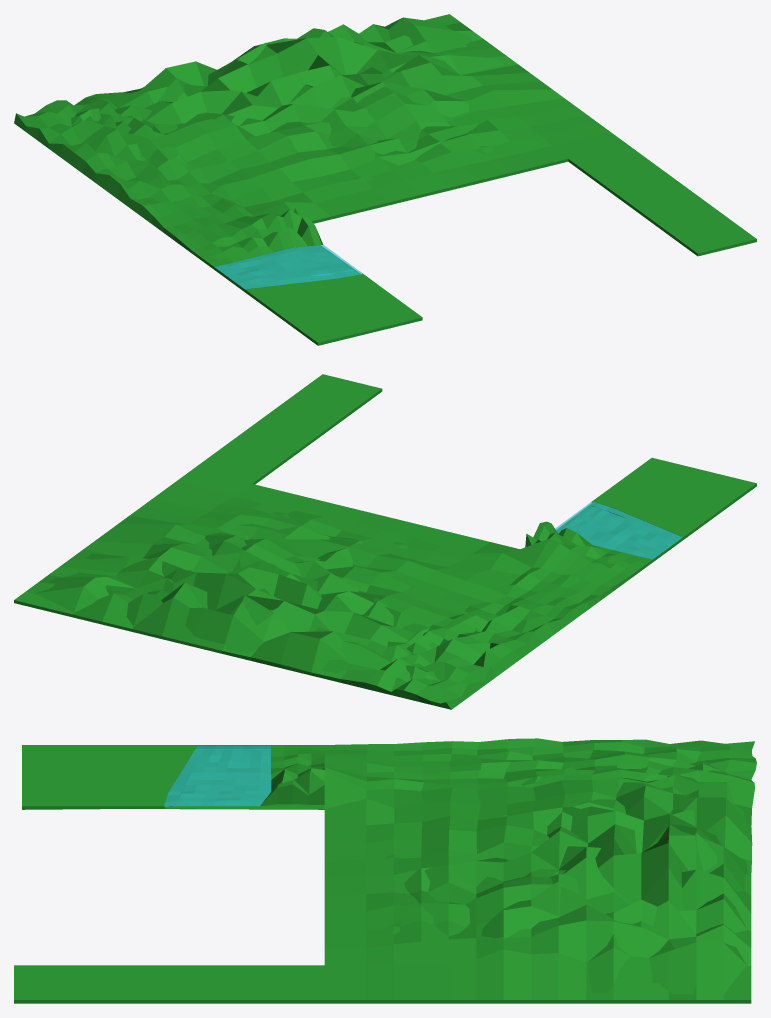
Rendered from ExtraDowntownTerrain.fbx.
3 views of the same model, one above another, from view 1: azimuth 30°, elevation 25°; view 2: azimuth 150°, elevation 25°; view 3: azimuth 270°, elevation 25° (orthographic). The views are drawn at different scales.
Parts seen in each view (by area): view 1: Plane.054; view 2: Plane.054; view 3: Plane.054.
Boxes of the visible parts, bbox=[...] form: Plane.054: bbox=[14, 14, 756, 345]; Plane.054: bbox=[14, 374, 756, 709]; Plane.054: bbox=[14, 738, 756, 1003].
Size of the model in its own units: 30681 by 3192 by 37790.
